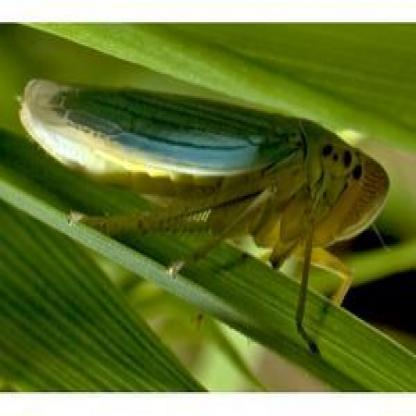Green-Leafhopper: (14, 75, 392, 358)
